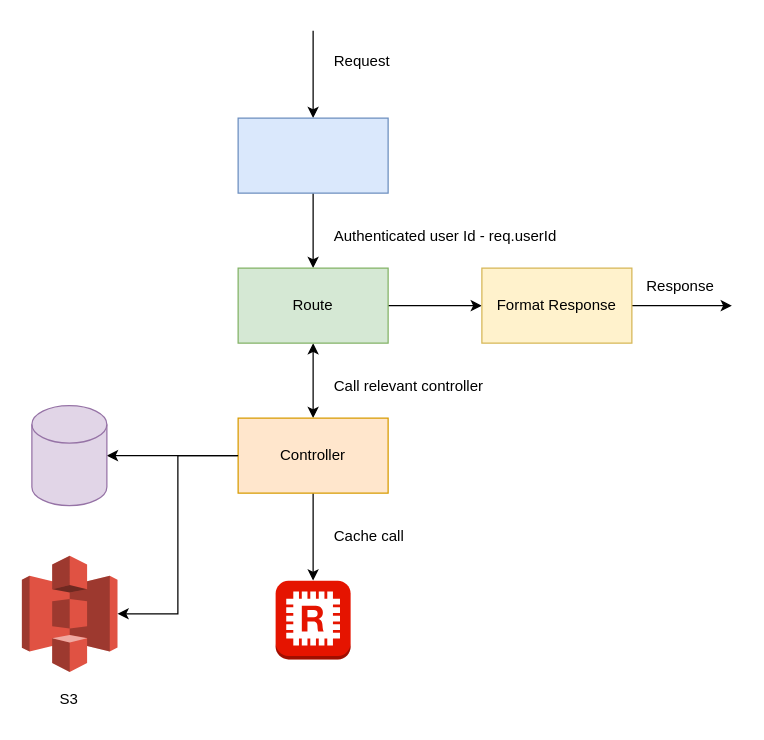
Some shapes in this 764 by 740 pixel diagram are drawn without their labels. Here are the shapes that lost their labels. From the top down, the centre of each, then its label:
At (x=312, y=155): "Middleware".
At (x=69, y=455): "DynamoDB".
